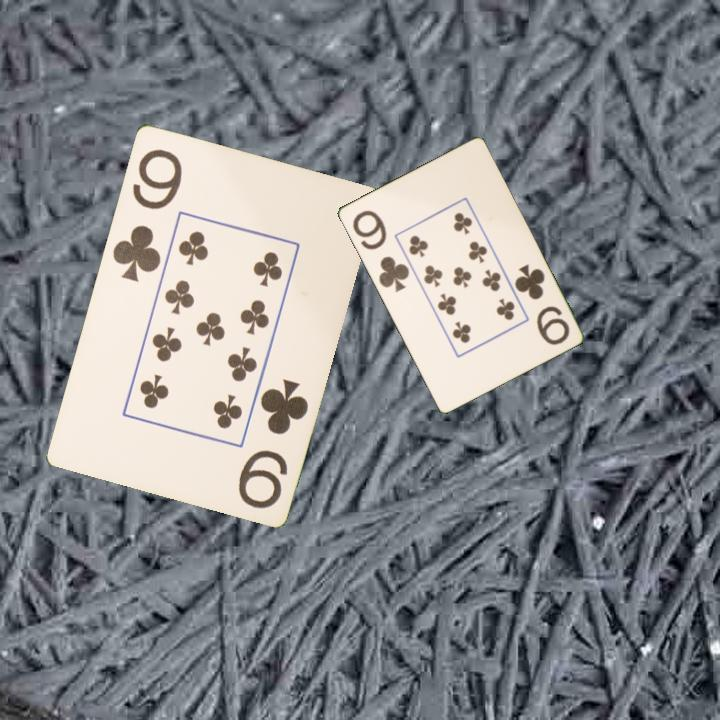9c: (108, 145, 185, 285), (234, 375, 311, 512), (348, 206, 412, 295), (510, 260, 572, 348)
